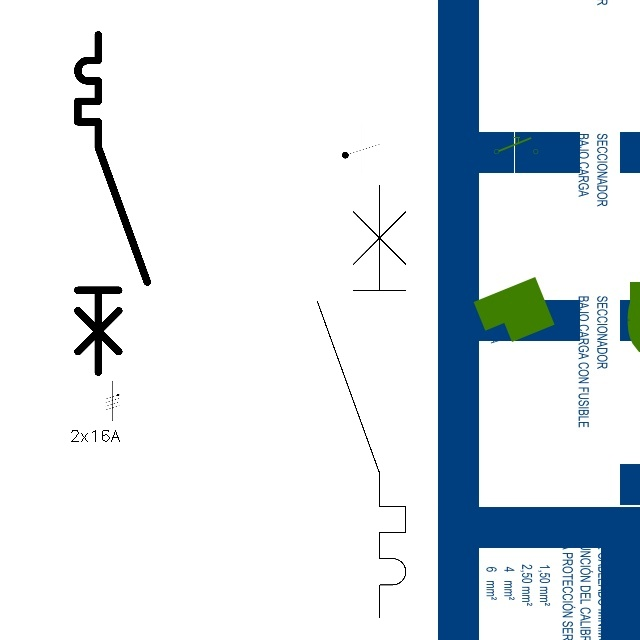interruptor_termomagnetico: (306, 174, 417, 628), (69, 26, 156, 381)
